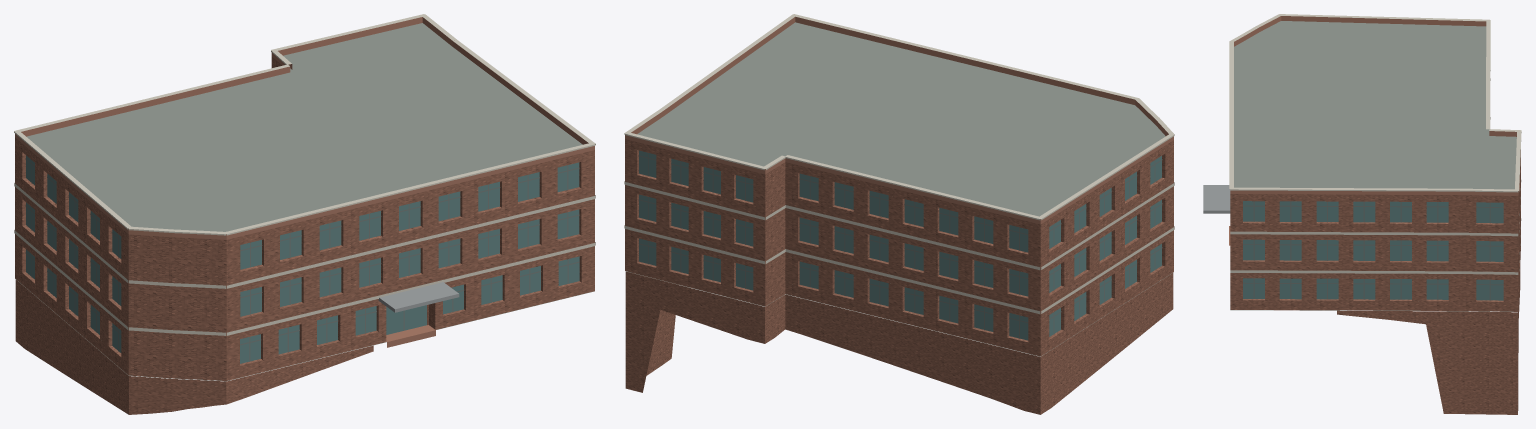
3 views of the same model, side by side, from view 1: azimuth 30°, elevation 25°; view 2: azimuth 150°, elevation 25°; view 3: azimuth 270°, elevation 25° (orthographic). The views are drawn at different scales.
Visible parts, largest first — view 1: osm172646932__roof, osm172646932__wall, osm172646932__glass, osm172646932__foundationSkirt, osm172646932__trim, osm172646932__parapet, osm172646932__frame, osm172646932__canopy, osm172646932__entranceThreshold_0; view 2: osm172646932__roof, osm172646932__wall, osm172646932__foundationSkirt, osm172646932__glass, osm172646932__trim, osm172646932__parapet, osm172646932__frame; view 3: osm172646932__roof, osm172646932__wall, osm172646932__glass, osm172646932__foundationSkirt, osm172646932__trim, osm172646932__parapet, osm172646932__frame, osm172646932__canopy.
Part boxes in pixels (<box>): osm172646932__roof: <box>16,23,594,381</box>; osm172646932__wall: <box>15,56,594,380</box>; osm172646932__glass: <box>26,155,579,363</box>; osm172646932__foundationSkirt: <box>15,279,373,414</box>; osm172646932__trim: <box>14,14,595,335</box>; osm172646932__parapet: <box>15,17,594,239</box>; osm172646932__frame: <box>25,158,579,361</box>; osm172646932__canopy: <box>378,282,459,312</box>; osm172646932__entranceThreshold_0: <box>386,325,435,347</box>; osm172646932__roof: <box>626,22,1173,356</box>; osm172646932__wall: <box>625,139,1173,356</box>; osm172646932__foundationSkirt: <box>625,271,1173,414</box>; osm172646932__glass: <box>639,150,1161,340</box>; osm172646932__trim: <box>624,14,1174,314</box>; osm172646932__parapet: <box>625,16,1173,224</box>; osm172646932__frame: <box>638,153,1162,338</box>; osm172646932__roof: <box>1230,21,1516,311</box>; osm172646932__wall: <box>1230,150,1520,311</box>; osm172646932__glass: <box>1243,201,1503,300</box>; osm172646932__foundationSkirt: <box>1337,268,1520,414</box>; osm172646932__trim: <box>1229,14,1521,274</box>; osm172646932__parapet: <box>1230,16,1518,195</box>; osm172646932__frame: <box>1243,201,1503,300</box>; osm172646932__canopy: <box>1203,185,1230,213</box>.
Size of the model in its own units: 34.48 by 20.31 by 26.13.
10 materials, 2 textured.
